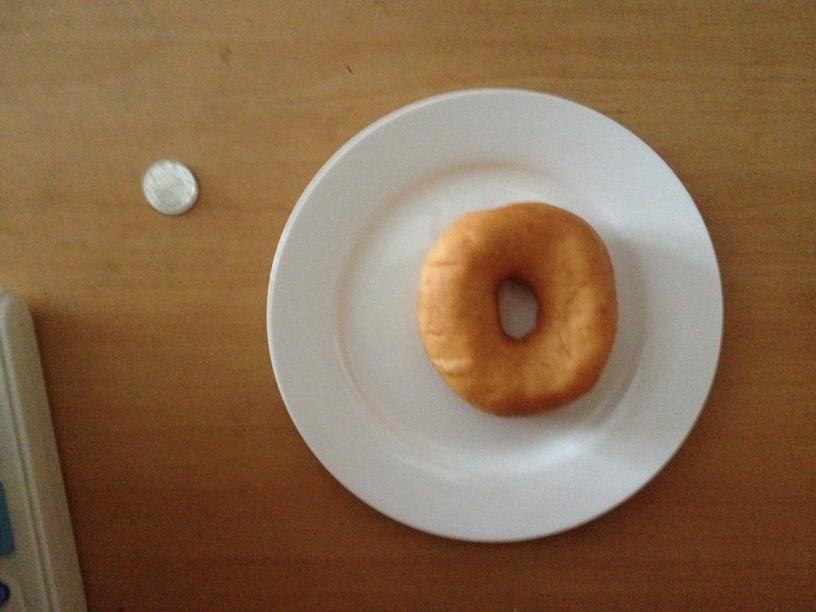coin: (141, 159, 198, 214)
doughnut: (422, 200, 616, 416)
